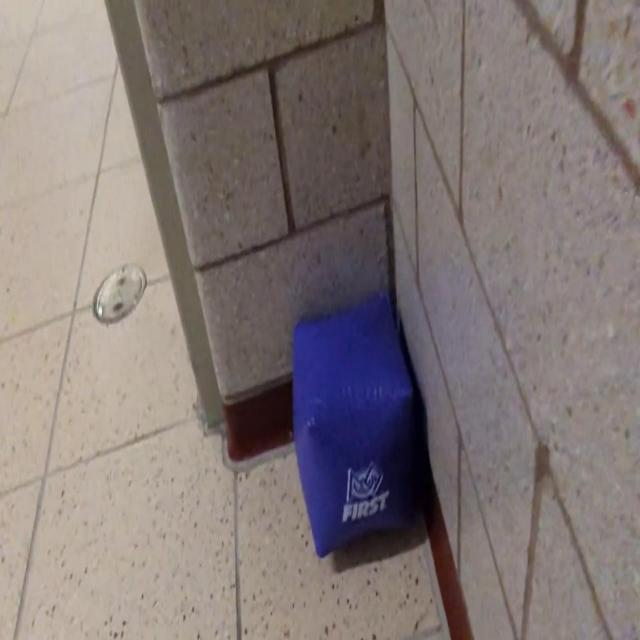frc_cube: (292, 300, 416, 558)
